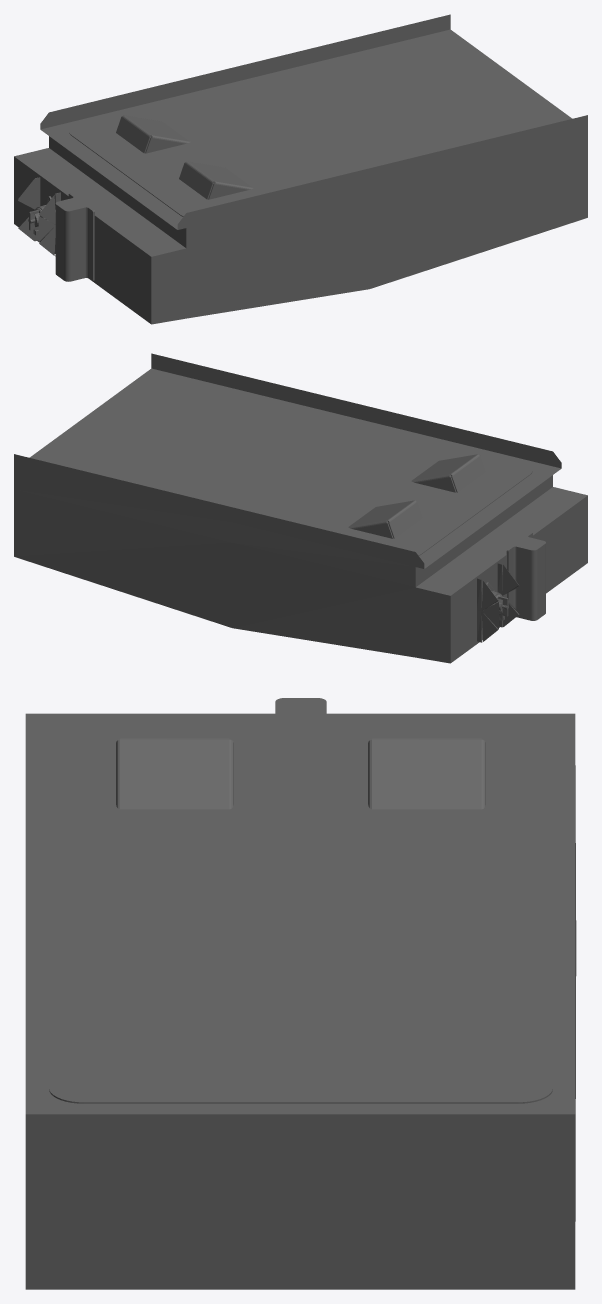
The model's file is Whog_chasis_corr_origen.gltf.
The picture shows the model from 3 angles, top to bottom: view 1: azimuth 30°, elevation 25°; view 2: azimuth 150°, elevation 25°; view 3: azimuth 270°, elevation 25°; orthographic projection. The views are drawn at different scales.
Visible parts, largest first — view 1: WHog_Chassis; view 2: WHog_Chassis; view 3: WHog_Chassis.
Boxes of the visible parts, x1=… form: WHog_Chassis: x1=14, y1=14, x2=587, y2=324; WHog_Chassis: x1=14, y1=353, x2=587, y2=663; WHog_Chassis: x1=25, y1=698, x2=576, y2=1289.
Bounding box in the file's own units: 1.36 × 0.3479 × 0.7073.
Materials: 1 (1 with a texture image).
